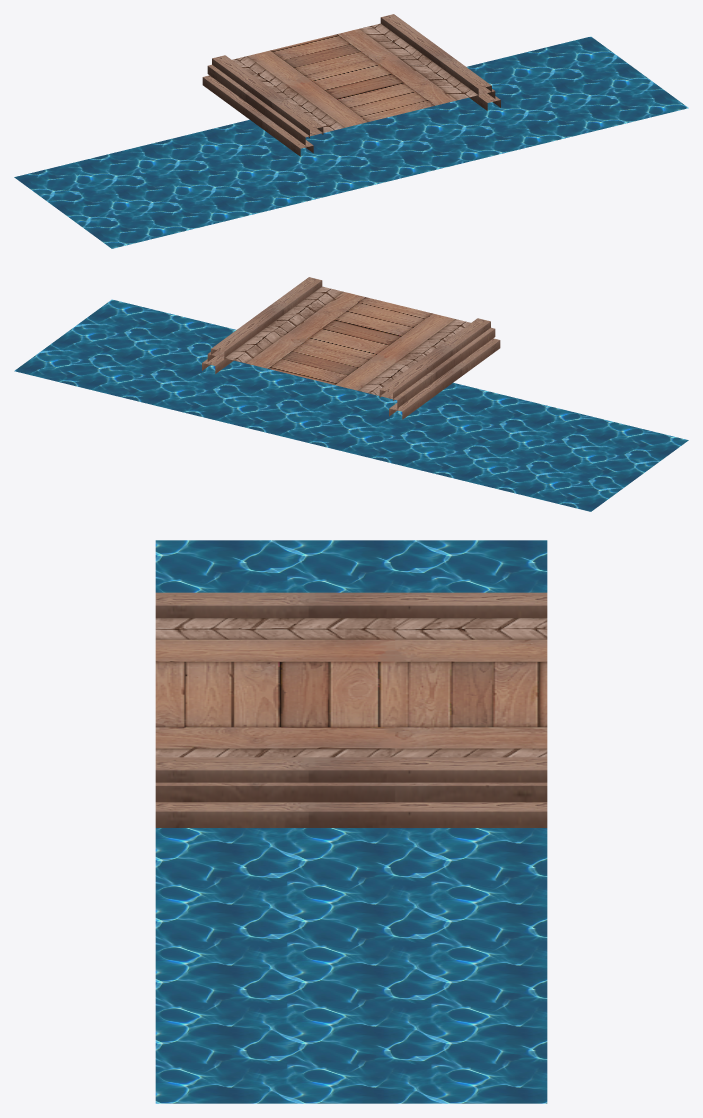
The model's file is FB_ChengZhenMuqiao_Dibiao.FBX.
The picture shows the model from 3 angles, top to bottom: view 1: azimuth 30°, elevation 25°; view 2: azimuth 150°, elevation 25°; view 3: azimuth 270°, elevation 25°; orthographic projection. The views are drawn at different scales.
Visible parts, largest first — view 1: Object01, Box01; view 2: Object01, Box01; view 3: Object01, Box01.
Part boxes in pixels (x1,y1,x2,y2): Object01: (14,36,688,248); Box01: (202,14,500,156); Object01: (14,299,688,511); Box01: (202,277,500,419); Object01: (155,540,547,1103); Box01: (155,592,547,827).
Bounding box in the file's own units: 34.01 × 3.97 × 10.
